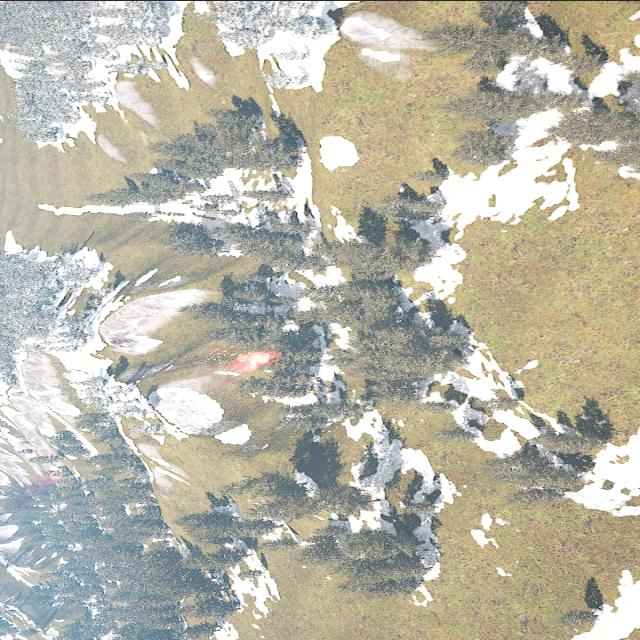fire: (234, 350, 274, 370), (44, 468, 60, 481)
smoke: (7, 476, 53, 504)
